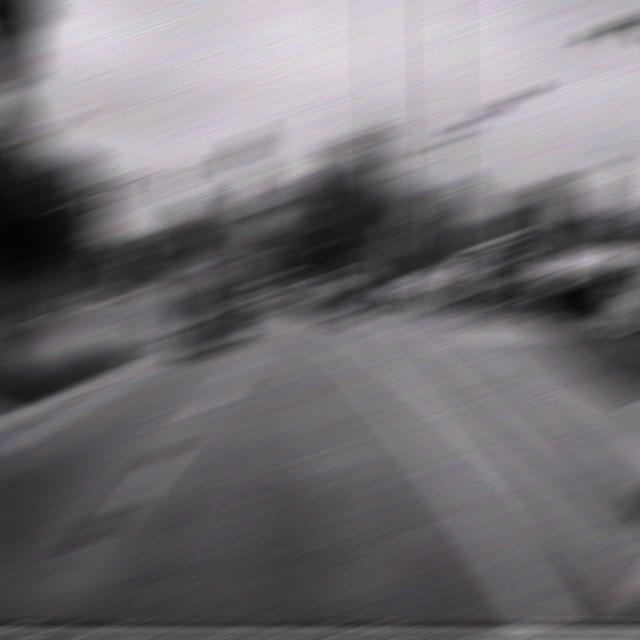speedLimit35: (384, 214, 418, 245)
